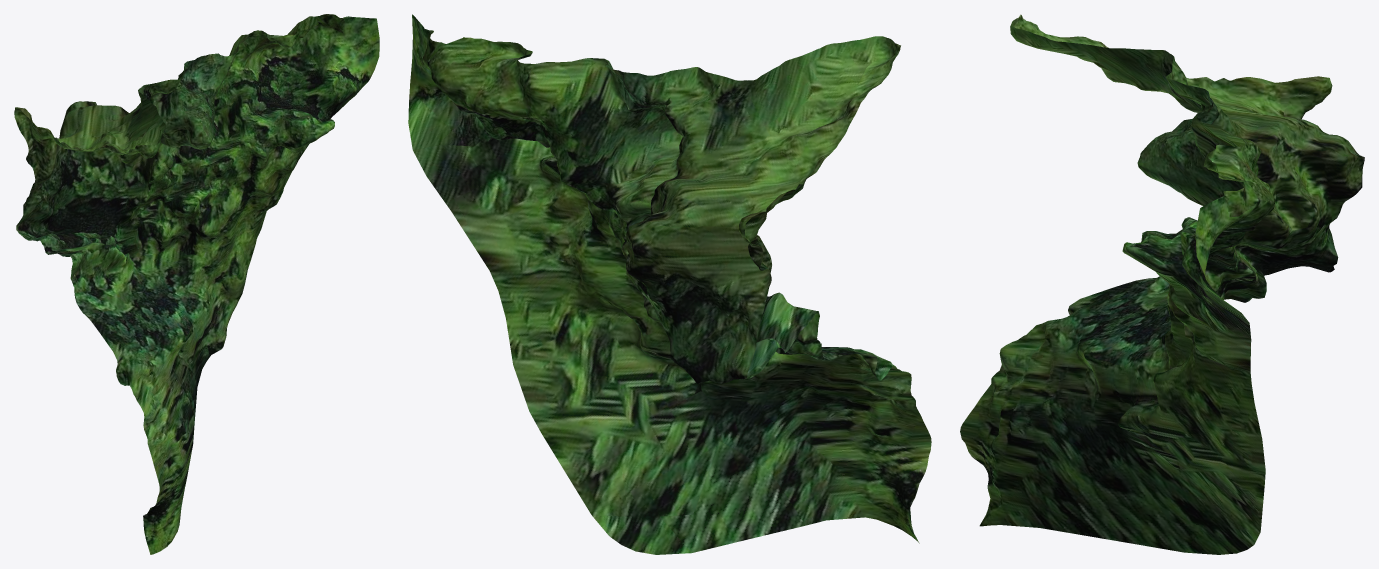
File: Tile_+023_+006.fbx
The picture shows the model from 3 angles, left to right: view 1: azimuth 30°, elevation 25°; view 2: azimuth 150°, elevation 25°; view 3: azimuth 270°, elevation 25°; orthographic projection. The views are drawn at different scales.
Parts seen in each view (by area): view 1: DefaultName; view 2: DefaultName; view 3: DefaultName.
Boxes of the visible parts, <box> form: DefaultName: <box>14,14,379,554</box>; DefaultName: <box>408,14,931,554</box>; DefaultName: <box>960,14,1364,554</box>.
Bounding box in the file's own units: 7 × 8.55 × 6.15.
